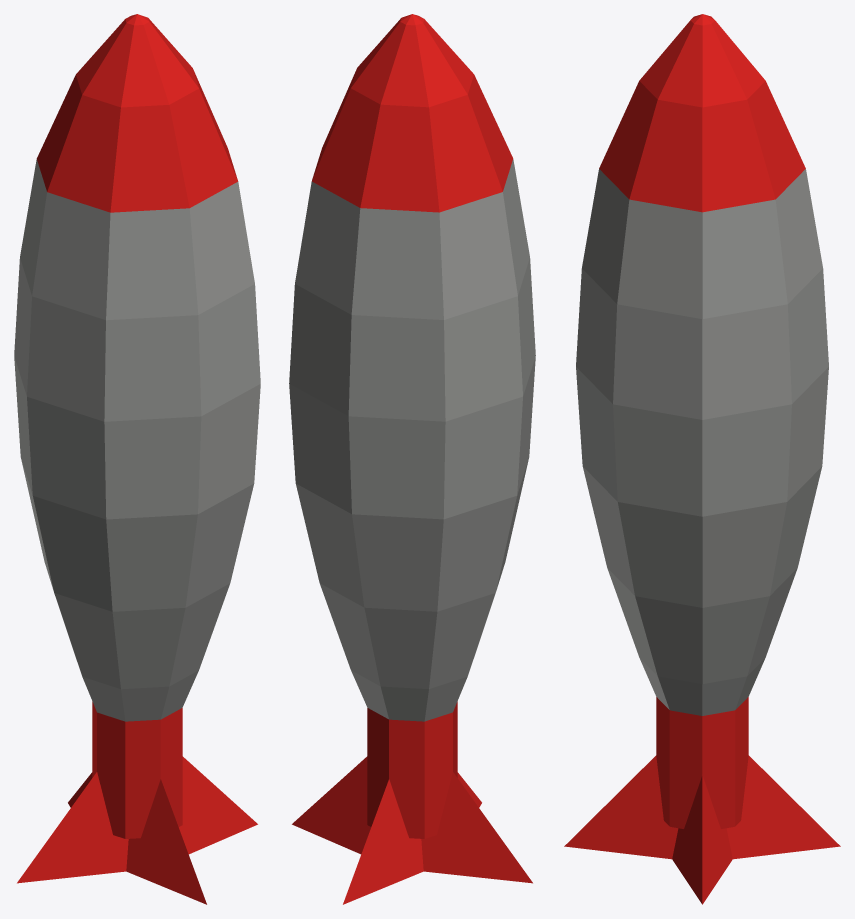
File: Mortar_Projectile_Fire.fbx
The picture shows the model from 3 angles, left to right: view 1: azimuth 30°, elevation 25°; view 2: azimuth 150°, elevation 25°; view 3: azimuth 270°, elevation 25°; orthographic projection.
Visible parts, largest first — view 1: Circle; view 2: Circle; view 3: Circle.
Part boxes in pixels (x1=…): Circle: x1=14, y1=14, x2=260, y2=904; Circle: x1=289, y1=14, x2=535, y2=904; Circle: x1=564, y1=14, x2=840, y2=904.
Bounding box in the file's own units: 210 × 696 × 210.
Materials: 1 (1 with a texture image).
